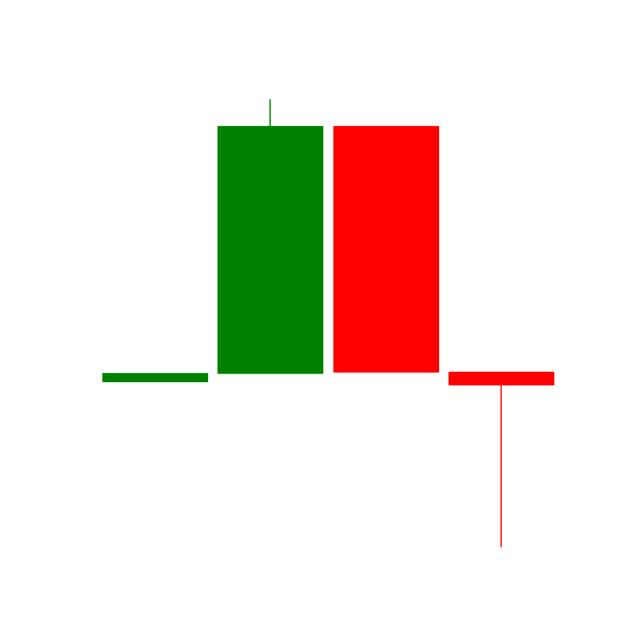Bearish Marubozu: (332, 126, 441, 373)
Four price doji: (102, 372, 210, 383)
